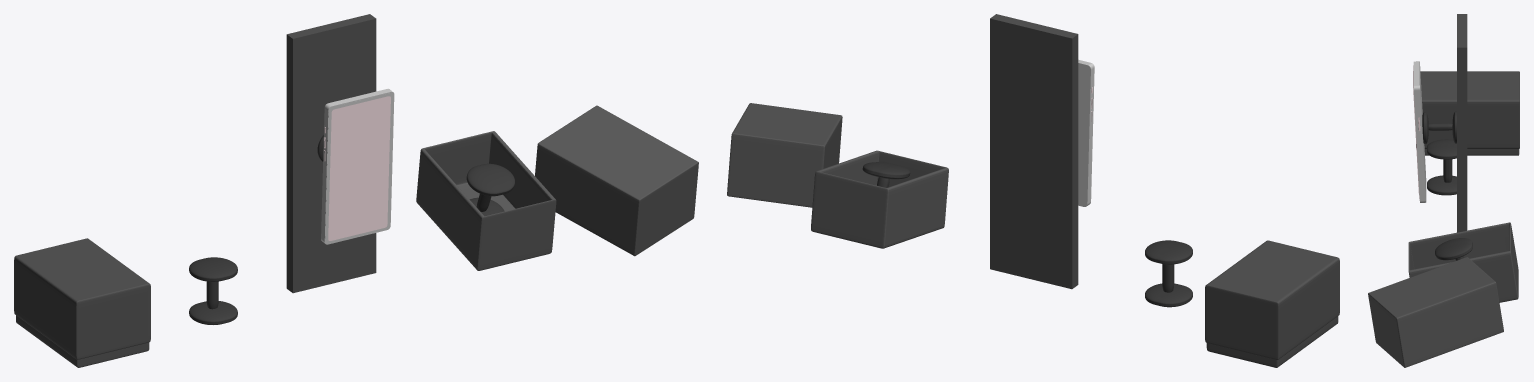
File: magnetic.glb
The picture shows the model from 3 angles, left to right: view 1: azimuth 30°, elevation 25°; view 2: azimuth 150°, elevation 25°; view 3: azimuth 270°, elevation 25°; orthographic projection. The views are drawn at different scales.
Parts seen in each view (by area): view 1: Up, Rectangle.082, mobileCel, Down, mobileCel19, Cube 2.001, Down.001; view 2: Rectangle.082, Down, mobileCel, Up, mobileCel19, Cube 2.001, Down.001; view 3: Up, Down, mobileCel, Rectangle.082, Cube 2.001, mobileCel19, cel2, Down.001.
Part boxes in pixels (<box>): Up: <box>535,105,698,256</box>; Rectangle.082: <box>286,14,376,293</box>; mobileCel: <box>416,131,556,270</box>; Down: <box>14,238,150,359</box>; mobileCel19: <box>321,88,394,244</box>; Cube 2.001: <box>189,257,237,324</box>; Down.001: <box>16,315,149,367</box>; Rectangle.082: <box>990,14,1078,289</box>; Down: <box>1205,240,1339,359</box>; mobileCel: <box>811,150,948,248</box>; Up: <box>727,103,842,207</box>; mobileCel19: <box>1078,59,1094,206</box>; Cube 2.001: <box>1145,240,1192,307</box>; Down.001: <box>1206,316,1338,367</box>; Up: <box>1368,257,1503,367</box>; Down: <box>1416,71,1519,148</box>; mobileCel: <box>1408,222,1518,302</box>; Rectangle.082: <box>1457,14,1467,232</box>; Cube 2.001: <box>1427,139,1456,195</box>; mobileCel19: <box>1413,61,1426,202</box>; cel2: <box>1422,111,1456,143</box>; Down.001: <box>1424,149,1519,155</box>.
Bounding box in the file's own units: 14.67 × 5.84 × 3.81.
